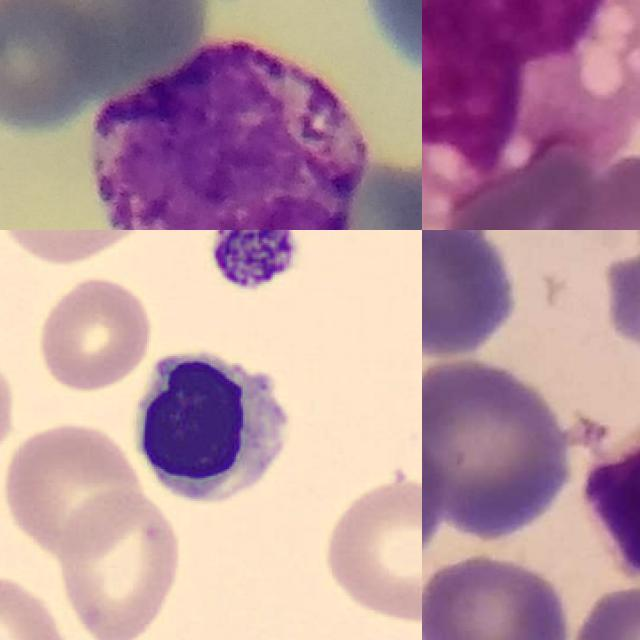Basophil: (90, 39, 369, 230)
Lymphocyte: (122, 335, 304, 511), (580, 377, 640, 585)
Monocyte: (422, 0, 640, 222)
Platelets: (208, 230, 301, 287)
RBC: (0, 417, 145, 560), (54, 484, 184, 640), (318, 470, 422, 629), (31, 273, 156, 397), (0, 230, 168, 268), (0, 567, 68, 640)
